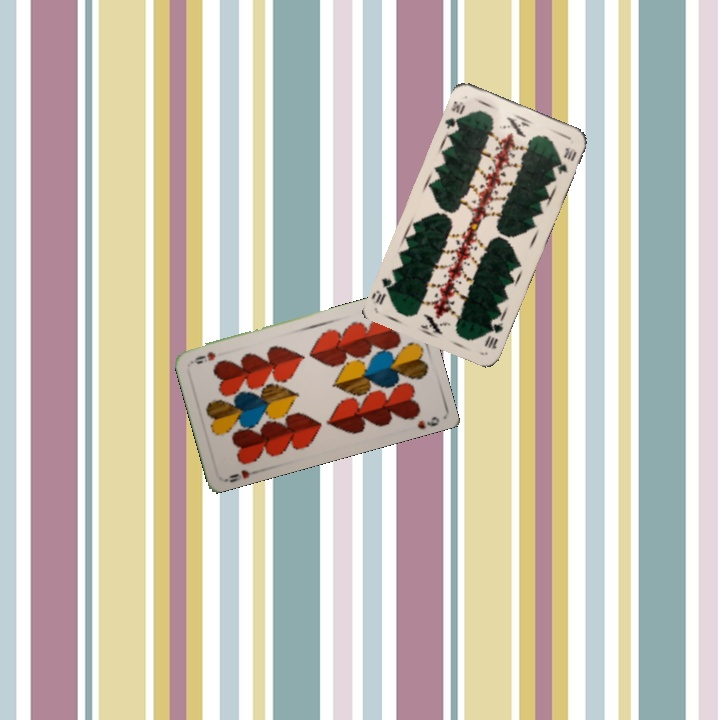G10: (480, 314, 506, 352), (441, 97, 468, 132)
H9: (221, 466, 261, 485)
